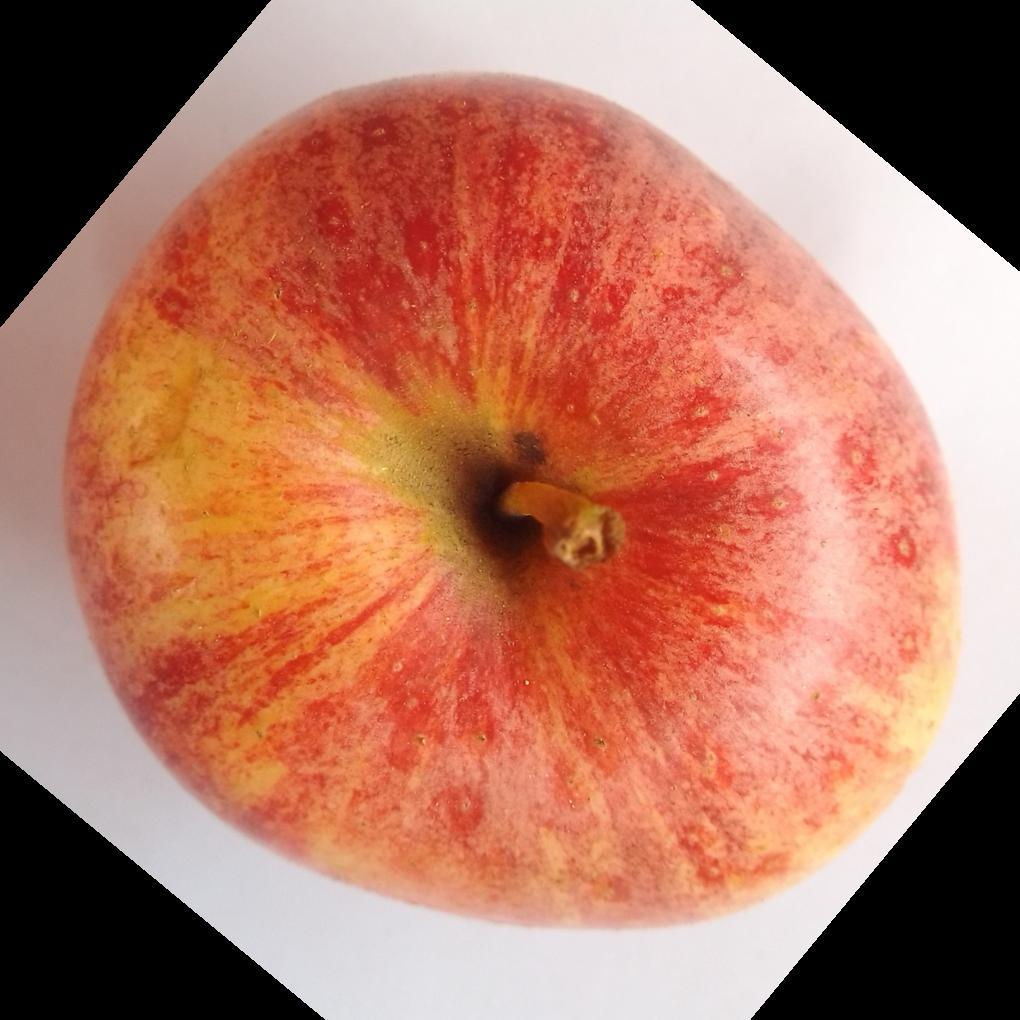FreshGuava: (59, 72, 970, 937)
